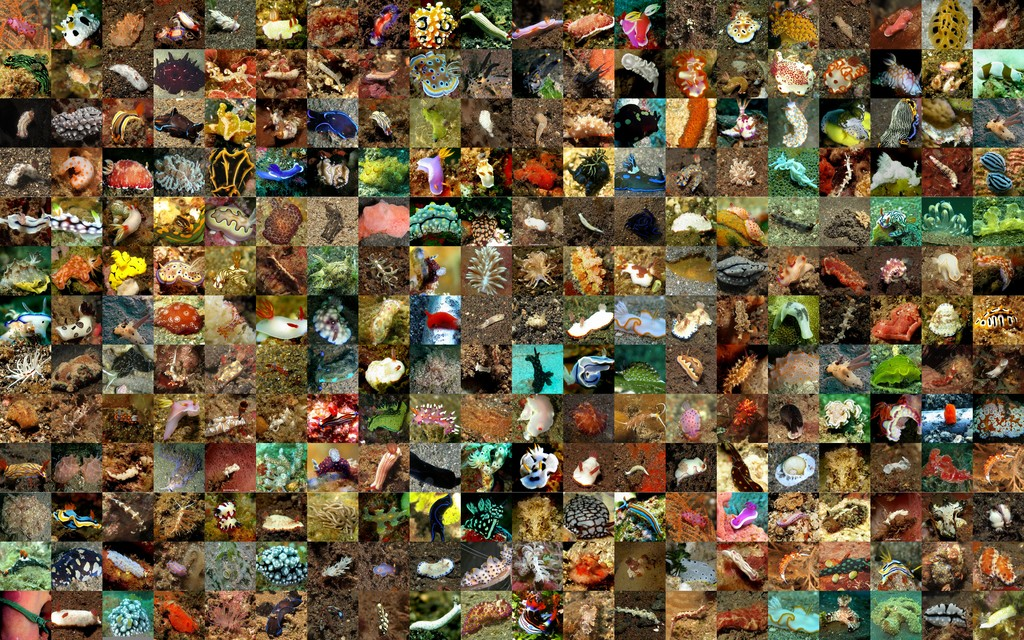person: (809, 0, 920, 48)
